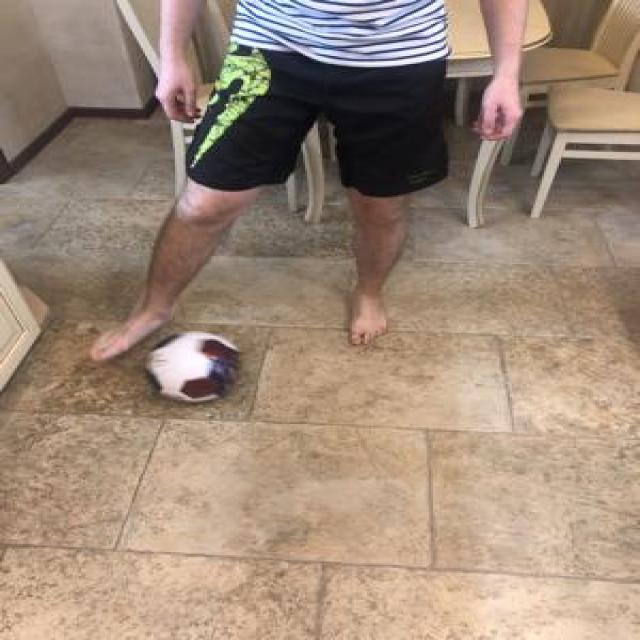Soccer Ball: (141, 324, 241, 402)
